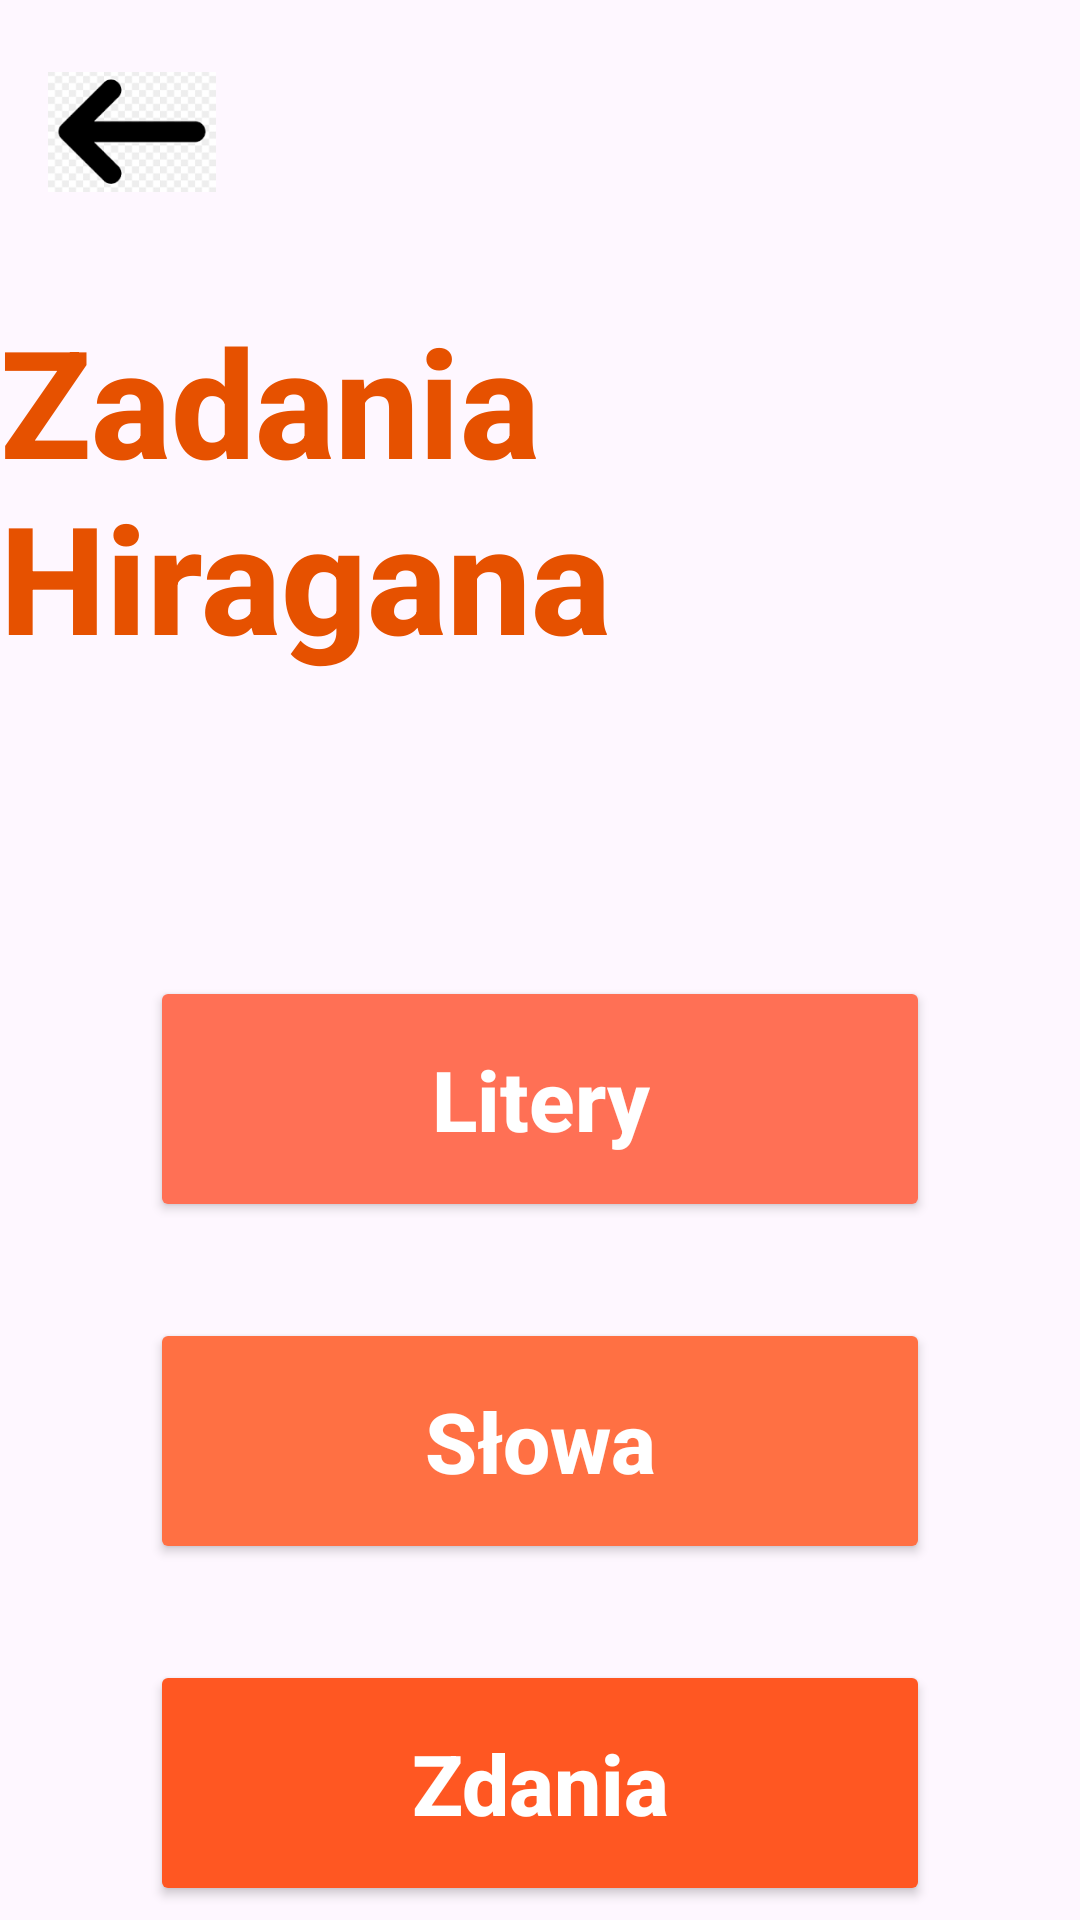

Locate icon controls on the screen. Image size 1080 x 1920, boxes as {"left": x1, "top": y1, "right": x2, "bottom": y2}.
Powrót: {"left": 58, "top": 79, "right": 206, "bottom": 184}
